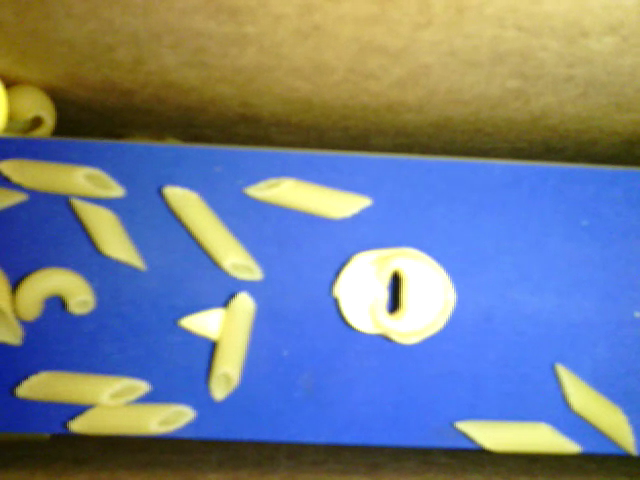elbow: (11, 262, 91, 323)
penne: (161, 183, 262, 281), (557, 361, 638, 458), (243, 173, 373, 222), (210, 289, 258, 403), (70, 201, 146, 271), (14, 370, 152, 408), (450, 417, 583, 455), (1, 159, 126, 199), (65, 400, 197, 437)
shell: (1, 78, 63, 142)
tortellini: (335, 240, 457, 344)
